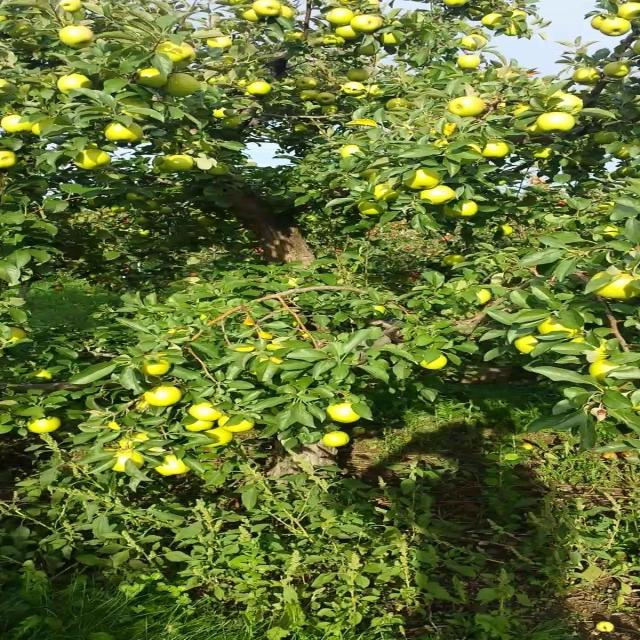apple: (596, 276, 638, 300), (163, 76, 201, 97), (156, 44, 197, 63), (106, 124, 144, 143), (540, 112, 576, 132), (589, 360, 619, 383), (156, 456, 190, 476), (404, 172, 441, 190), (148, 388, 183, 407), (447, 100, 485, 117), (540, 320, 580, 336), (77, 152, 114, 169), (113, 452, 144, 472), (333, 404, 363, 424), (205, 428, 235, 448), (426, 184, 455, 204), (220, 416, 256, 432), (141, 68, 169, 88), (63, 28, 92, 47), (191, 404, 222, 420), (604, 20, 633, 37), (120, 432, 149, 449), (326, 8, 356, 24), (355, 16, 384, 32), (554, 96, 583, 112), (575, 68, 603, 84), (120, 100, 148, 116), (63, 76, 92, 91), (483, 144, 512, 159), (170, 156, 197, 172), (461, 36, 489, 51), (255, 0, 281, 16), (6, 116, 30, 133), (604, 64, 633, 78), (447, 204, 476, 218), (376, 184, 398, 201), (141, 364, 171, 376), (333, 28, 363, 40), (205, 36, 235, 48), (618, 4, 639, 21), (518, 336, 539, 353), (326, 432, 348, 448), (241, 8, 263, 24), (35, 420, 64, 432), (184, 420, 213, 432), (6, 328, 28, 343), (362, 204, 386, 216), (35, 120, 53, 136), (426, 356, 448, 369), (348, 68, 370, 81), (461, 56, 484, 68), (532, 148, 555, 160), (596, 132, 619, 144), (248, 84, 270, 96), (298, 76, 320, 88), (511, 104, 533, 116), (205, 76, 228, 87), (319, 92, 338, 105), (483, 16, 503, 28), (383, 32, 400, 46), (390, 100, 411, 111), (340, 148, 363, 158), (589, 16, 606, 29), (156, 160, 174, 172), (362, 44, 379, 56), (440, 124, 457, 136), (198, 216, 215, 228), (298, 92, 320, 101), (348, 84, 364, 96), (447, 256, 466, 266), (525, 124, 544, 134), (618, 148, 633, 160), (447, 0, 469, 8), (604, 228, 620, 239), (63, 4, 84, 12), (127, 192, 148, 200), (284, 8, 297, 20), (319, 100, 338, 108), (6, 152, 16, 167), (291, 32, 306, 42), (326, 40, 347, 47), (212, 168, 229, 176), (369, 88, 384, 97), (227, 120, 242, 129), (113, 204, 128, 213), (596, 204, 615, 211), (504, 28, 519, 36), (35, 372, 52, 379), (511, 12, 528, 19), (212, 112, 229, 119), (497, 72, 516, 78), (483, 292, 491, 303), (241, 80, 251, 87), (113, 424, 121, 432)
